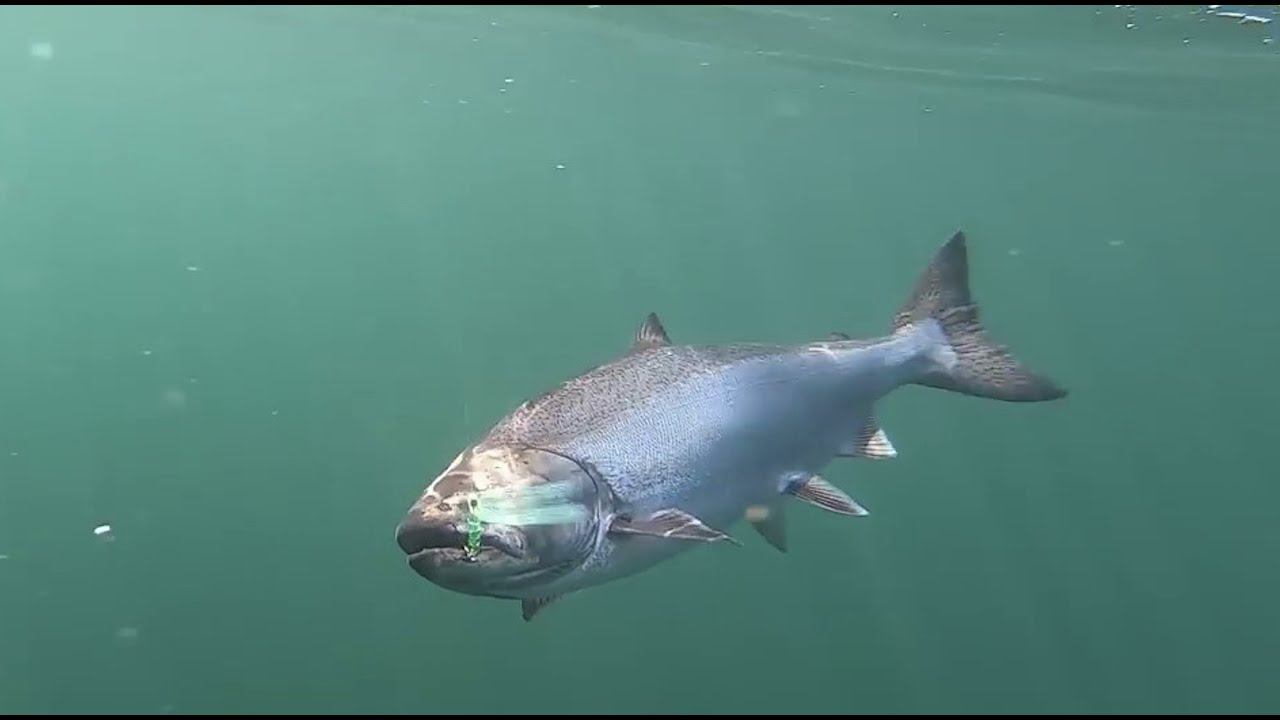Chinook salmon: (395, 222, 1071, 622)
